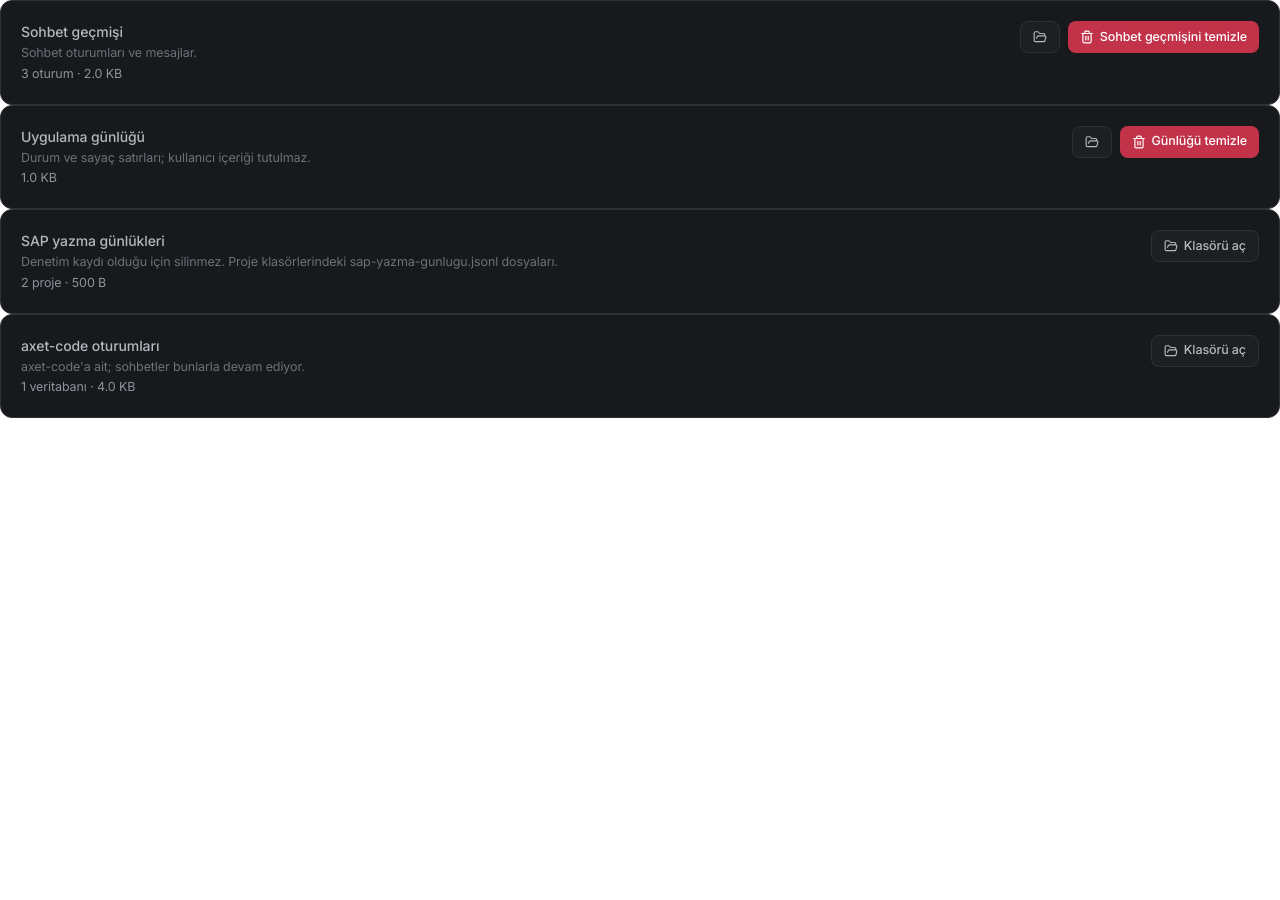
Test: DataPrivacySection — temizle dugmesi alertdialog aciyor › sohbet temizle → role=alertdialog aciliyor
The image size is (1280, 900).
Expected: the text "Sohbet geçmişi" is shown, [21, 23, 123, 40]
Note: "Sohbet geçmişini temizle" düğmesini bul
Click the button "Sohbet geçmişini temizle" at (1163, 37), box [1068, 21, 1259, 53]
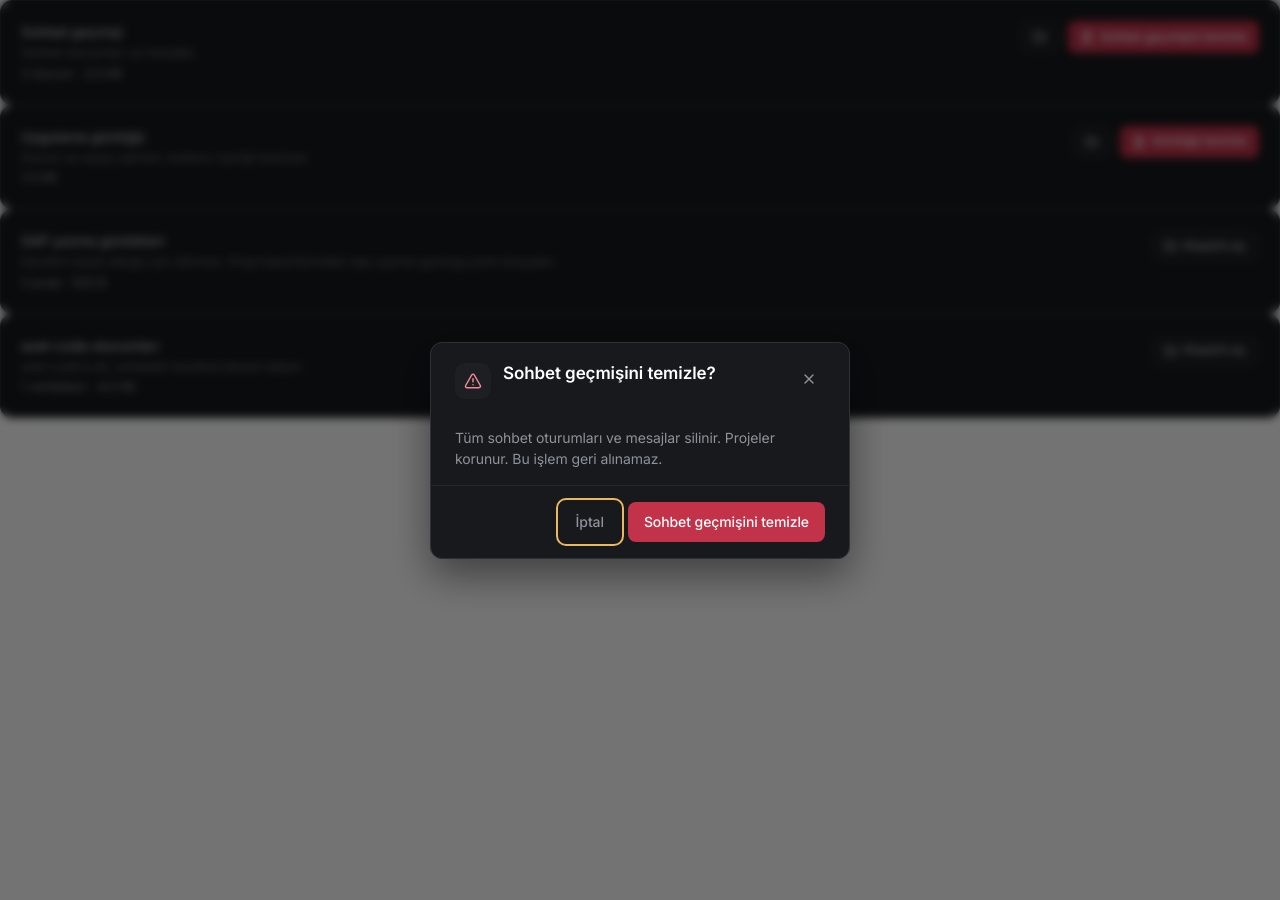
Expected: the dialog is shown, [430, 342, 850, 558]
